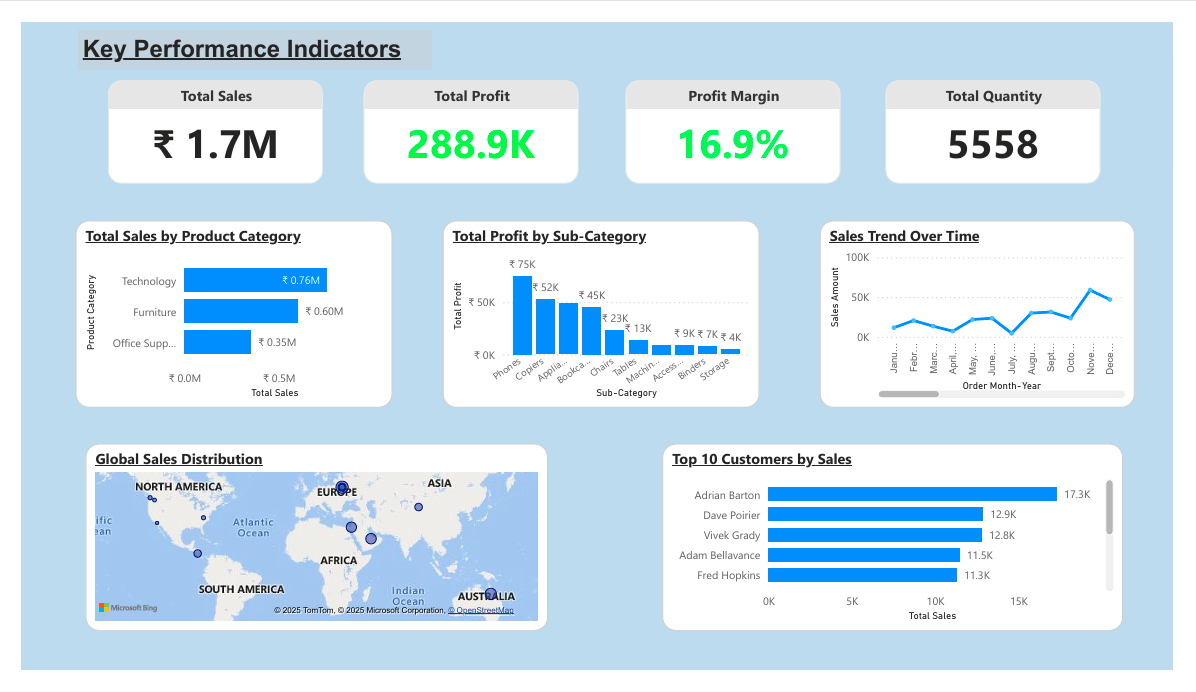

What the dashboard file says about the page in this screenshot:
{"tool":"powerbi","page":{"name":"Page 1","canvas":[1280,720],"ordinal":0},"visuals":[{"type":"card","title":"Total Sales","fields":{"Values":["Global Superstore Sales Performance Dashboard.Total Sales"]},"box":[96.4,64.3,239,114.4],"z":0},{"type":"card","title":"Total Profit","fields":{"Values":["Global Superstore Sales Performance Dashboard.Total Profit"]},"box":[380.4,64.3,239,114.4],"z":1000},{"type":"card","title":"Profit Margin","fields":{"Values":["Global Superstore Sales Performance Dashboard.Profit Margin"]},"box":[670.8,64.3,239,114.4],"z":2000},{"type":"card","title":"Total Quantity","fields":{"Values":["Global Superstore Sales Performance Dashboard.Total Quantity"]},"box":[960,64.3,239,114.4],"z":3000},{"type":"textbox","box":[63,9,393.3,43.7],"z":4000},{"type":"clusteredBarChart","fields":{"Category":["Global Superstore Sales Performance Dashboard.Category"],"Y":["Global Superstore Sales Performance Dashboard.Total Sales"]},"box":[60.3,220.1,352,208],"z":5000},{"type":"clusteredColumnChart","fields":{"Category":["Global Superstore Sales Performance Dashboard.Sub-Category"],"Y":["Global Superstore Sales Performance Dashboard.Total Profit"]},"box":[468.2,219.8,352,208],"z":6000},{"type":"lineChart","title":"Sales Trend Over Time","fields":{"Y":["Global Superstore Sales Performance Dashboard.Total Sales"],"Category":["Global Superstore Sales Performance Dashboard.Order Month-Year"]},"box":[886.7,219.9,350.7,208.4],"z":7000},{"type":"map","title":"Global Sales Distribution","fields":{"Category":["Global Superstore Sales Performance Dashboard.Region"],"Size":["Global Superstore Sales Performance Dashboard.Sales"]},"box":[70.6,467.7,514,208.4],"z":8000},{"type":"clusteredBarChart","title":"Top 10 Customers by Sales","fields":{"Category":["Global Superstore Sales Performance Dashboard.Customer_Name"],"Y":["Global Superstore Sales Performance Dashboard.Sales"]},"box":[711.9,467.7,511.6,208.4],"z":8001}]}

Visuals, with their boxes on the page's 1280x720 design canvas (x1, y1, x2, y2). These are canvas units, not pixel positions in the 1196x692 screenshot, which may show the page scaled, cropped or inside an application window:
"Total Sales" card: crop(96, 64, 335, 179)
"Total Profit" card: crop(380, 64, 619, 179)
"Profit Margin" card: crop(671, 64, 910, 179)
"Total Quantity" card: crop(960, 64, 1199, 179)
textbox: crop(63, 9, 456, 53)
clusteredBarChart - Global Superstore Sales Performance Dashboard.Category x Global Superstore Sales Performance Dashboard.Total Sales: crop(60, 220, 412, 428)
clusteredColumnChart - Global Superstore Sales Performance Dashboard.Sub-Category x Global Superstore Sales Performance Dashboard.Total Profit: crop(468, 220, 820, 428)
"Sales Trend Over Time" lineChart: crop(887, 220, 1237, 428)
"Global Sales Distribution" map: crop(71, 468, 585, 676)
"Top 10 Customers by Sales" clusteredBarChart: crop(712, 468, 1224, 676)
